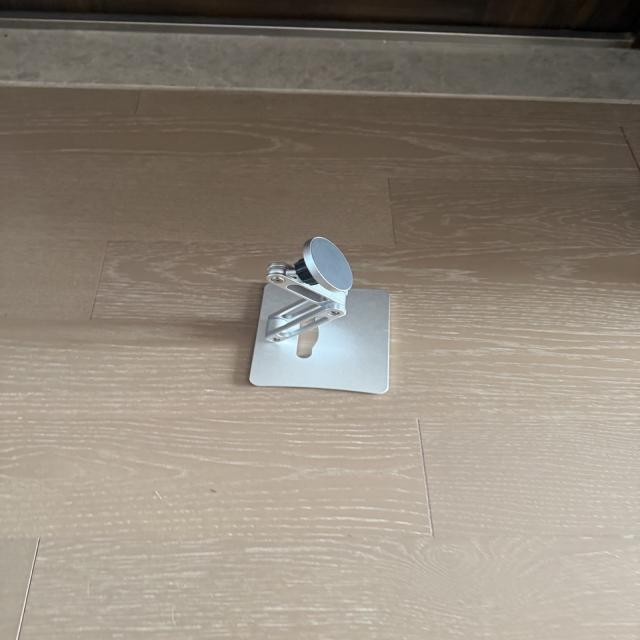phone holder: (223, 228, 401, 402)
